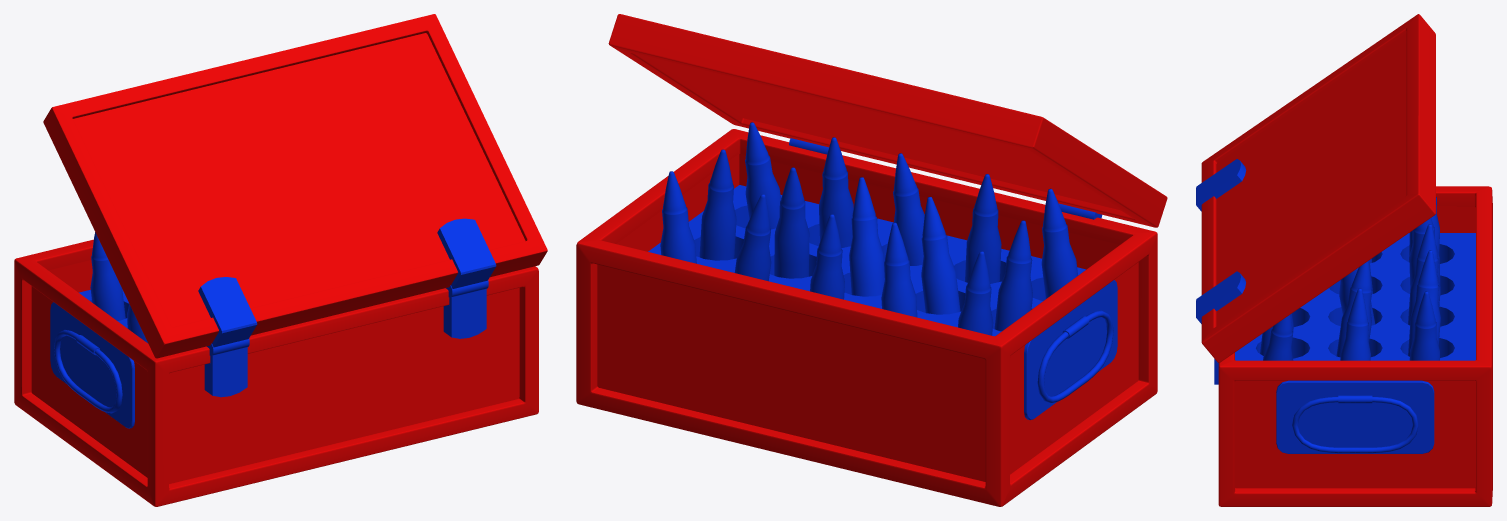
File: Primary_Ammo_Crate.fbx
3 views of the same model, side by side, from view 1: azimuth 30°, elevation 25°; view 2: azimuth 150°, elevation 25°; view 3: azimuth 270°, elevation 25° (orthographic). The views are drawn at different scales.
Visible parts, largest first — view 1: Primary_Ammo_Crate3; view 2: Primary_Ammo_Crate3; view 3: Primary_Ammo_Crate3.
Boxes of the visible parts, left/top/right/bottom form: Primary_Ammo_Crate3: left=14, top=14, right=547, bottom=506; Primary_Ammo_Crate3: left=576, top=14, right=1167, bottom=506; Primary_Ammo_Crate3: left=1196, top=14, right=1492, bottom=506.
Size of the model in its own units: 39.76 by 32.12 by 27.58.
